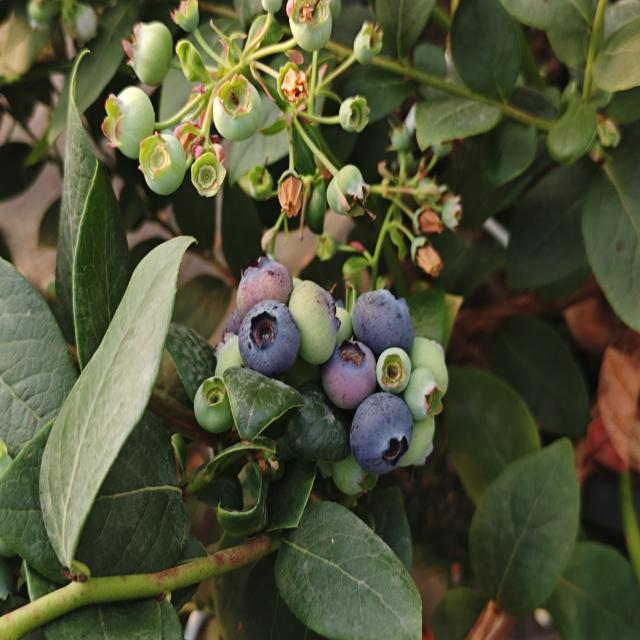ripe: (344, 388, 424, 478), (344, 274, 418, 361), (235, 294, 303, 378), (324, 344, 372, 397)
